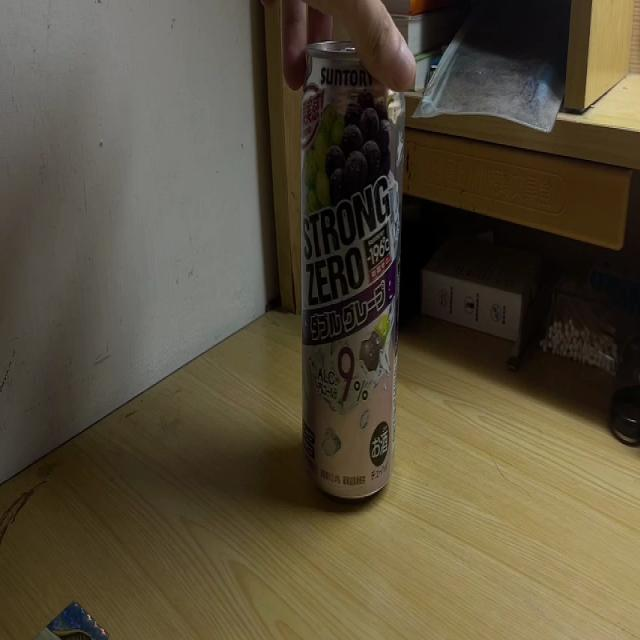Liquor: (298, 31, 405, 502)
